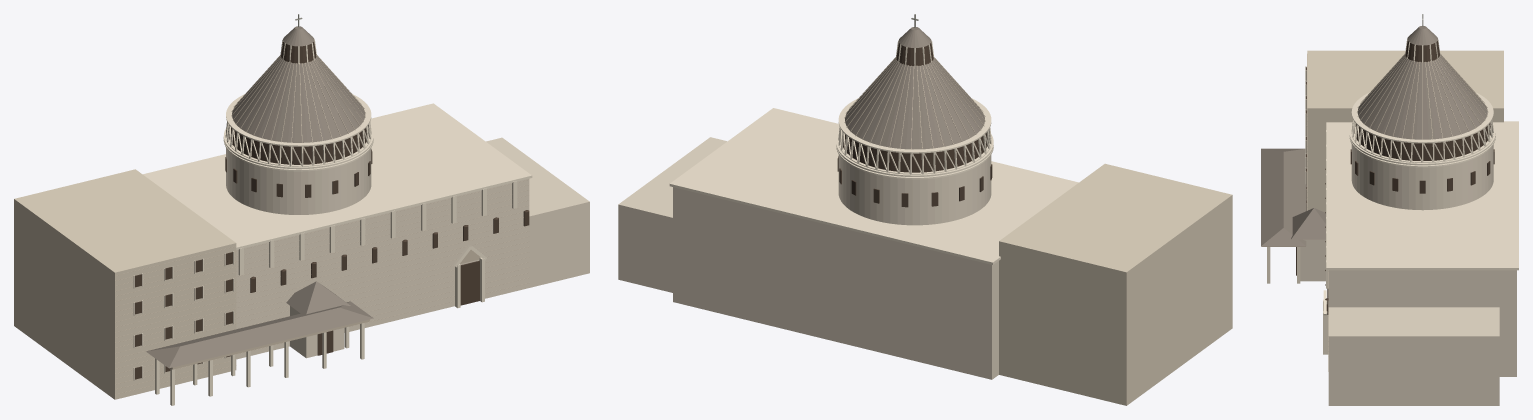
The picture shows the model from 3 angles, left to right: view 1: azimuth 30°, elevation 25°; view 2: azimuth 150°, elevation 25°; view 3: azimuth 270°, elevation 25°; orthographic projection. The views are drawn at different scales.
Visible parts, largest first — view 1: Church with crown dome (approximate); view 2: Church with crown dome (approximate); view 3: Church with crown dome (approximate).
Part boxes in pixels (x1=…): Church with crown dome (approximate): x1=14, y1=14, x2=589, y2=405; Church with crown dome (approximate): x1=618, y1=14, x2=1232, y2=405; Church with crown dome (approximate): x1=1261, y1=14, x2=1518, y2=405.
Bounding box in the file's own units: 64 × 35.6 × 30.15.
